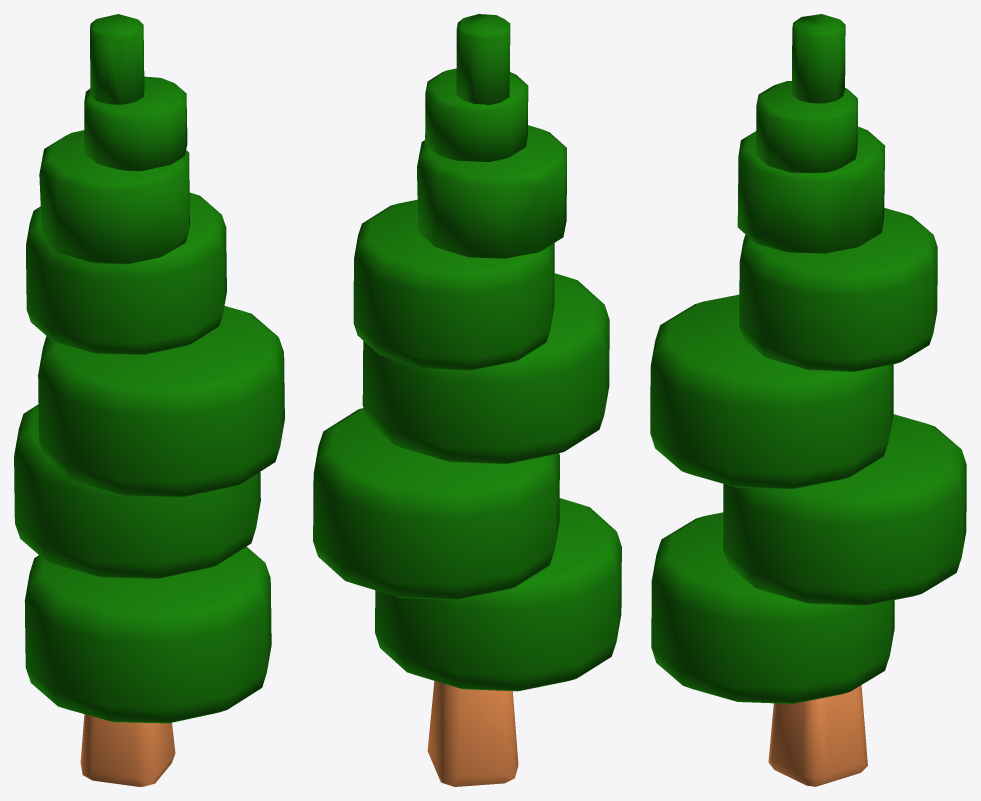
File: CylindersTree.fbx
3 renders of one model, left to right at view 1: azimuth 30°, elevation 25°; view 2: azimuth 150°, elevation 25°; view 3: azimuth 270°, elevation 25°, orthographic.
Visible parts, largest first — view 1: CylindersTree_LOD0; view 2: CylindersTree_LOD0; view 3: CylindersTree_LOD0.
Part boxes in pixels (x1,y1,x2,y2): CylindersTree_LOD0: (14,14,284,786); CylindersTree_LOD0: (313,14,621,786); CylindersTree_LOD0: (650,14,966,786).
Size of what is drawn, in the model's own units: 344 by 1032 by 398.
